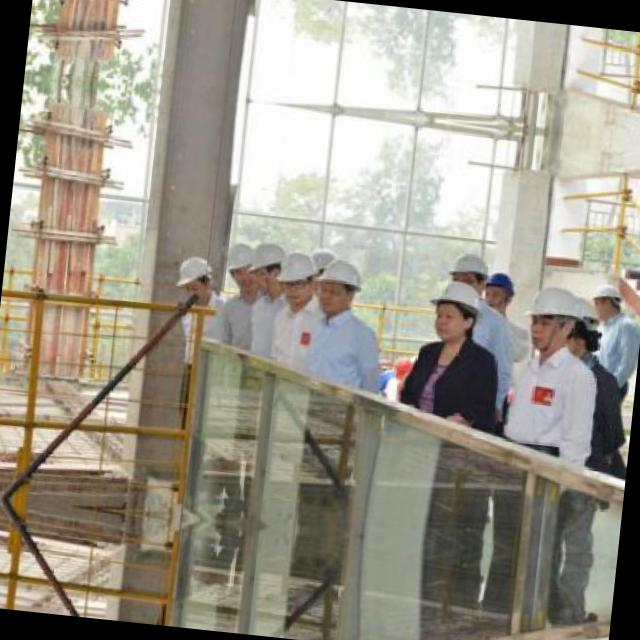helmet: (523, 280, 591, 361), (426, 272, 486, 344), (424, 276, 485, 340), (560, 290, 604, 360), (314, 253, 364, 314), (243, 235, 284, 298), (582, 269, 626, 325), (222, 234, 260, 297), (281, 248, 322, 305), (448, 248, 489, 296), (479, 266, 516, 312), (180, 251, 213, 298)
